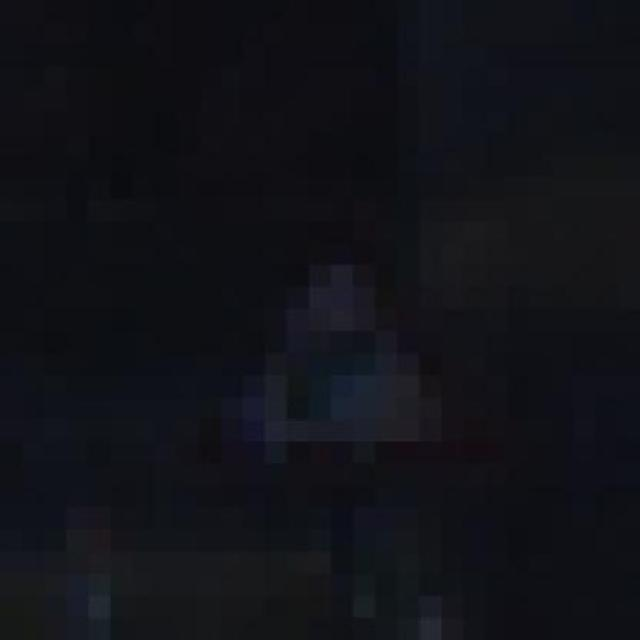Dangerous Rright Curve Ahead: (177, 221, 508, 485)
